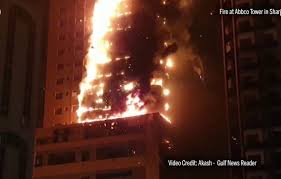fire: (80, 5, 193, 127)
